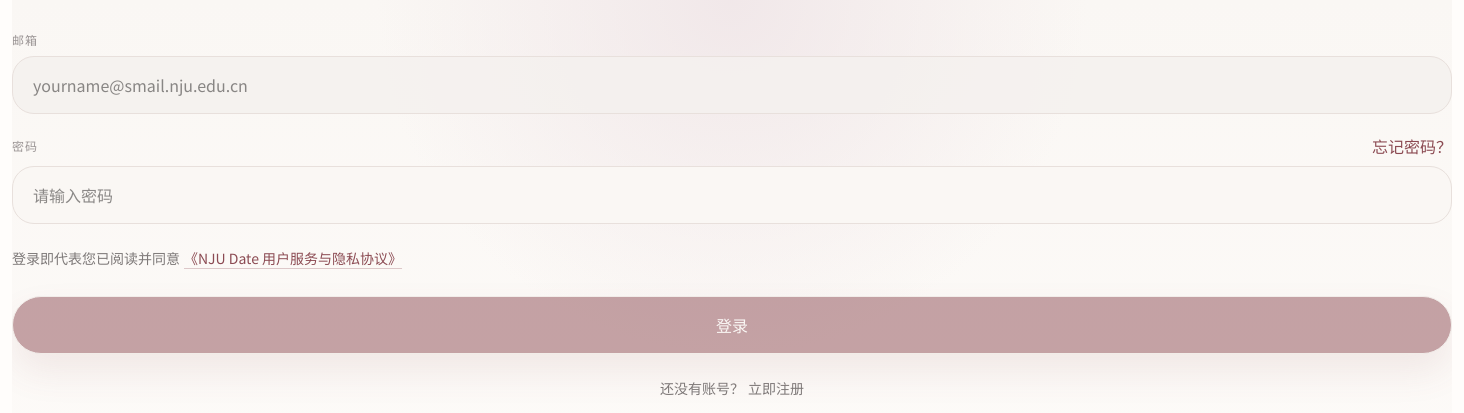
LoginForm › renders the forgot password entry on the password label row and expands the inline panel
Expected: the text "发送密码重置邮件" is not shown
What coordinates should you click on to do the following:
click the button "忘记密码？"
I would click on:
 (1412, 146)
Its box is [1372,134,1452,158].
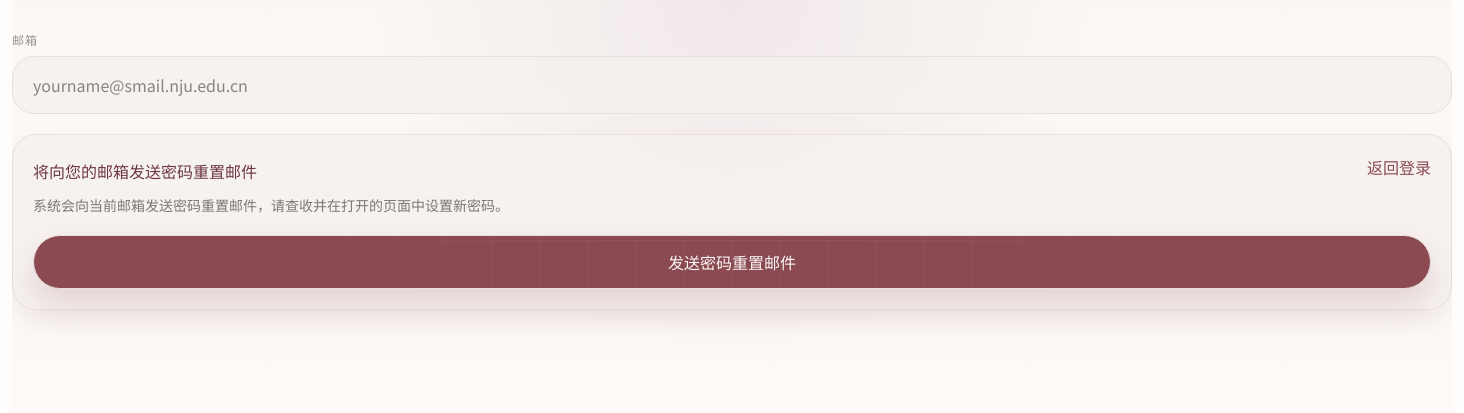
Expected: the button "发送密码重置邮件" is shown, [33,235,1431,289]
Expected: the text "将向您的邮箱发送密码重置邮件" is shown, [33,159,257,183]
Expected: the text "登录即代表您已阅读并同意" is gone
